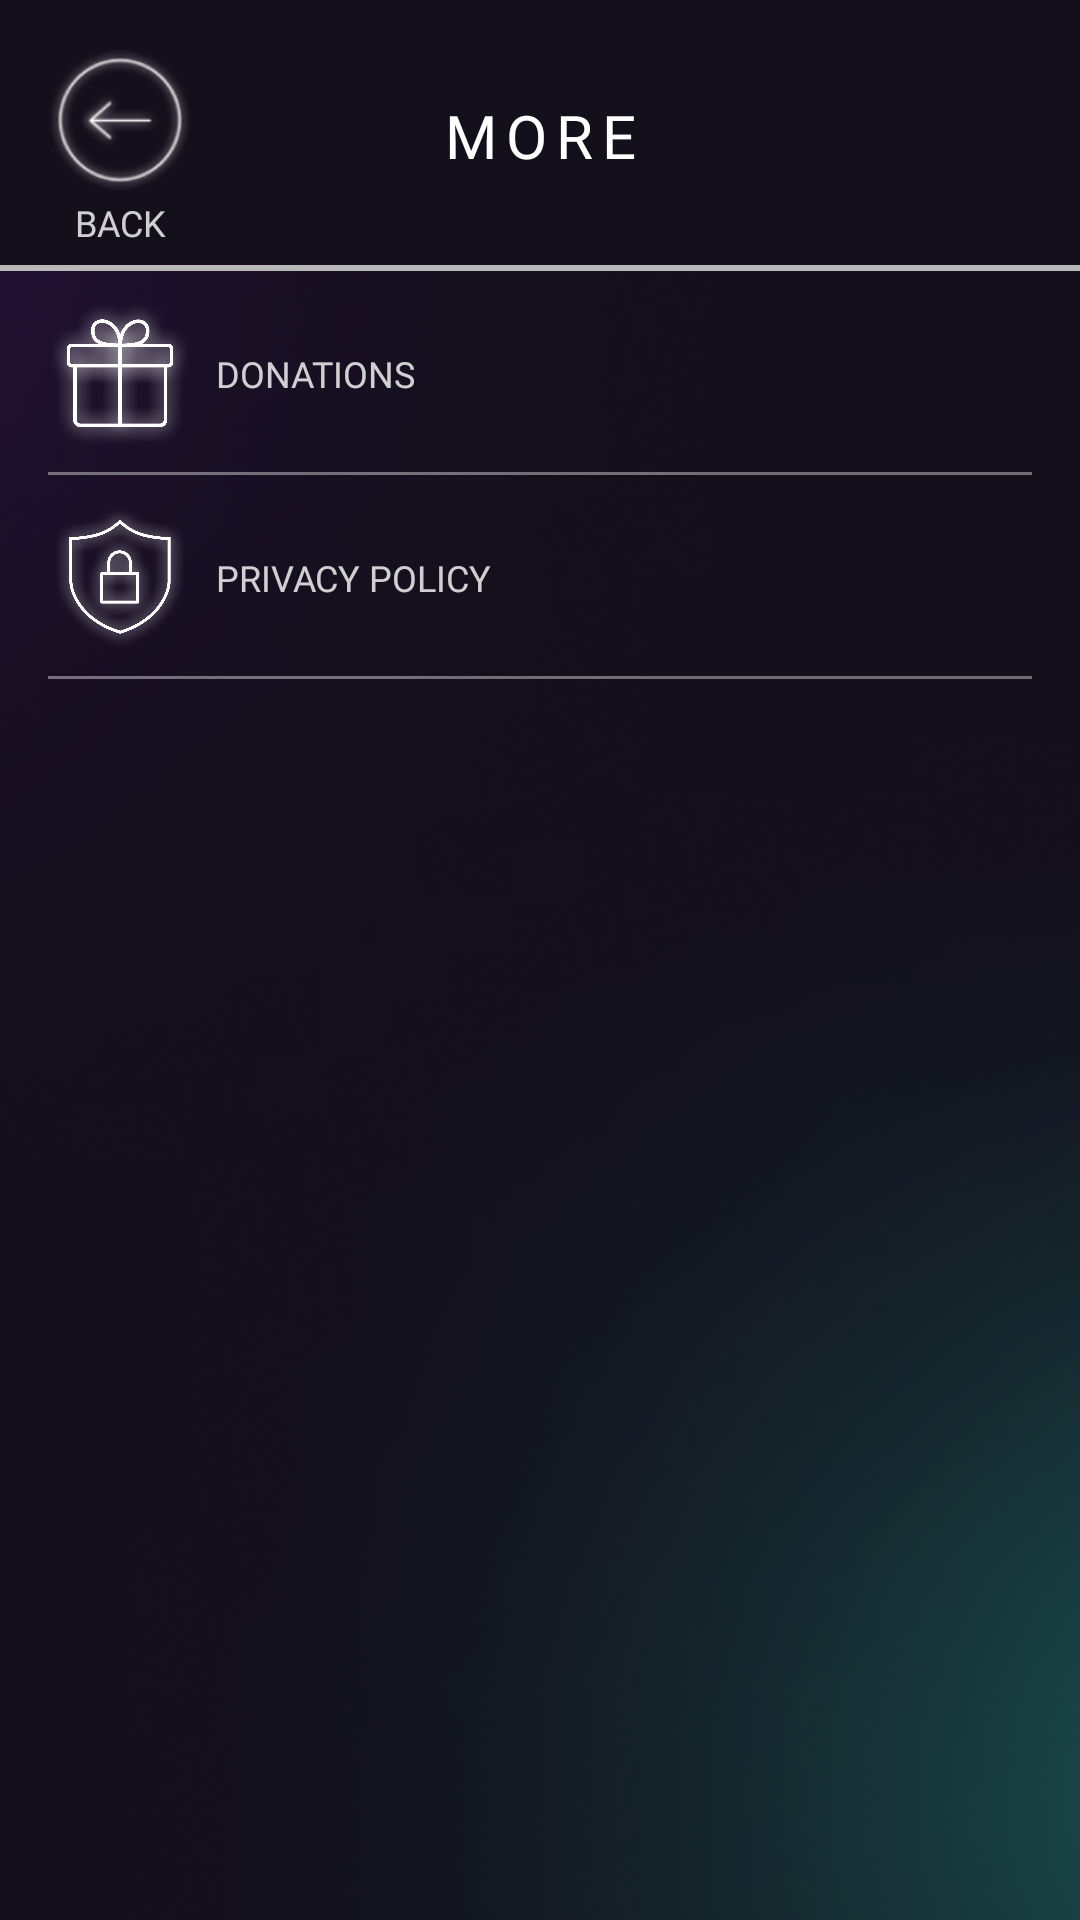

Locate icon controls on the screen. Image size 1080×1920, boxes as (x1, y1, x2, y2).
present: (59, 314, 180, 437)
